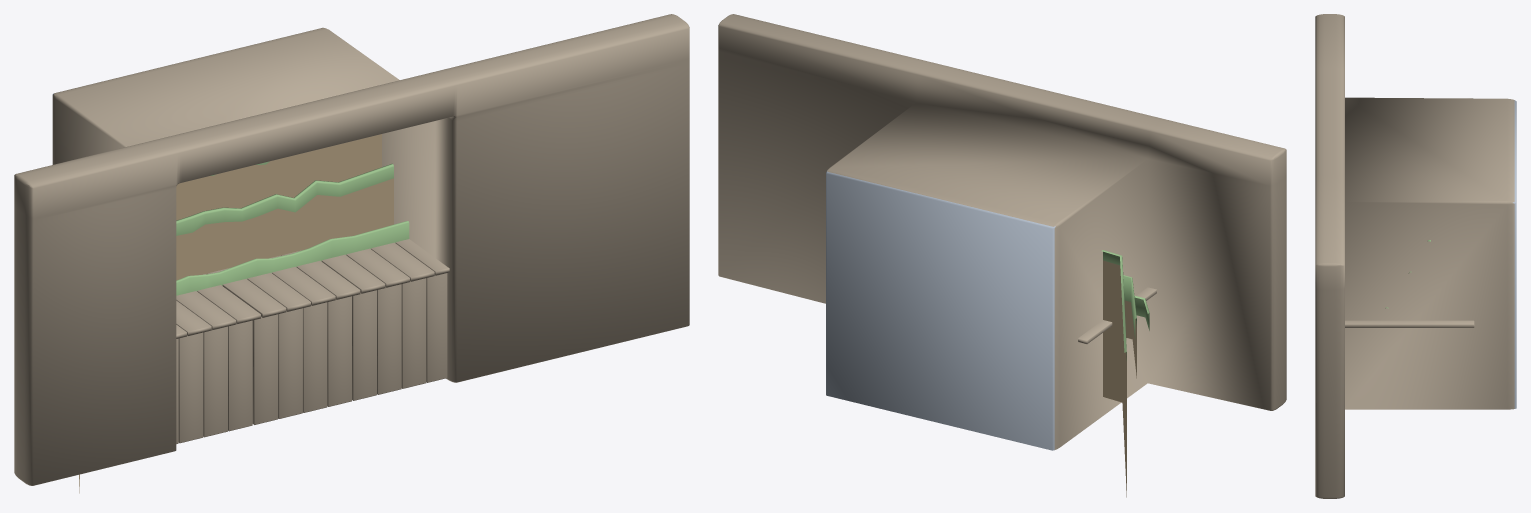
The model's file is MainModel.fbx.
The picture shows the model from 3 angles, left to right: view 1: azimuth 30°, elevation 25°; view 2: azimuth 150°, elevation 25°; view 3: azimuth 270°, elevation 25°; orthographic projection. The views are drawn at different scales.
Visible parts, largest first — view 1: Stand; view 2: Stand; view 3: Stand.
Boxes of the visible parts, box(x1,y1,x2,y2) form: Stand: box(14, 14, 689, 493); Stand: box(718, 14, 1286, 497); Stand: box(1315, 14, 1516, 498).
Bounding box in the file's own units: 37.05 × 21.13 × 12.55.
